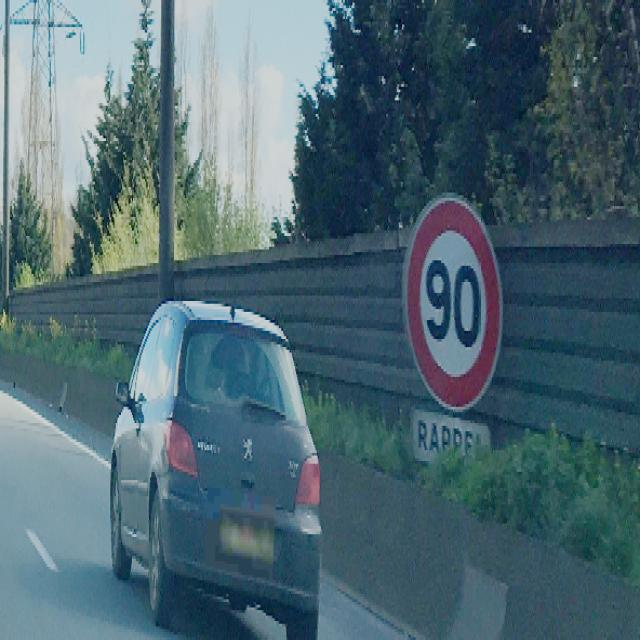speed_90: (401, 192, 505, 416)
